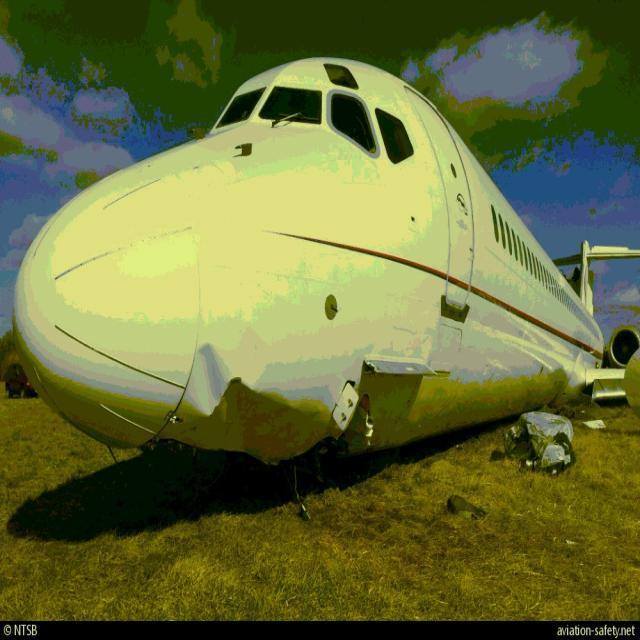dent: (185, 330, 230, 418)
